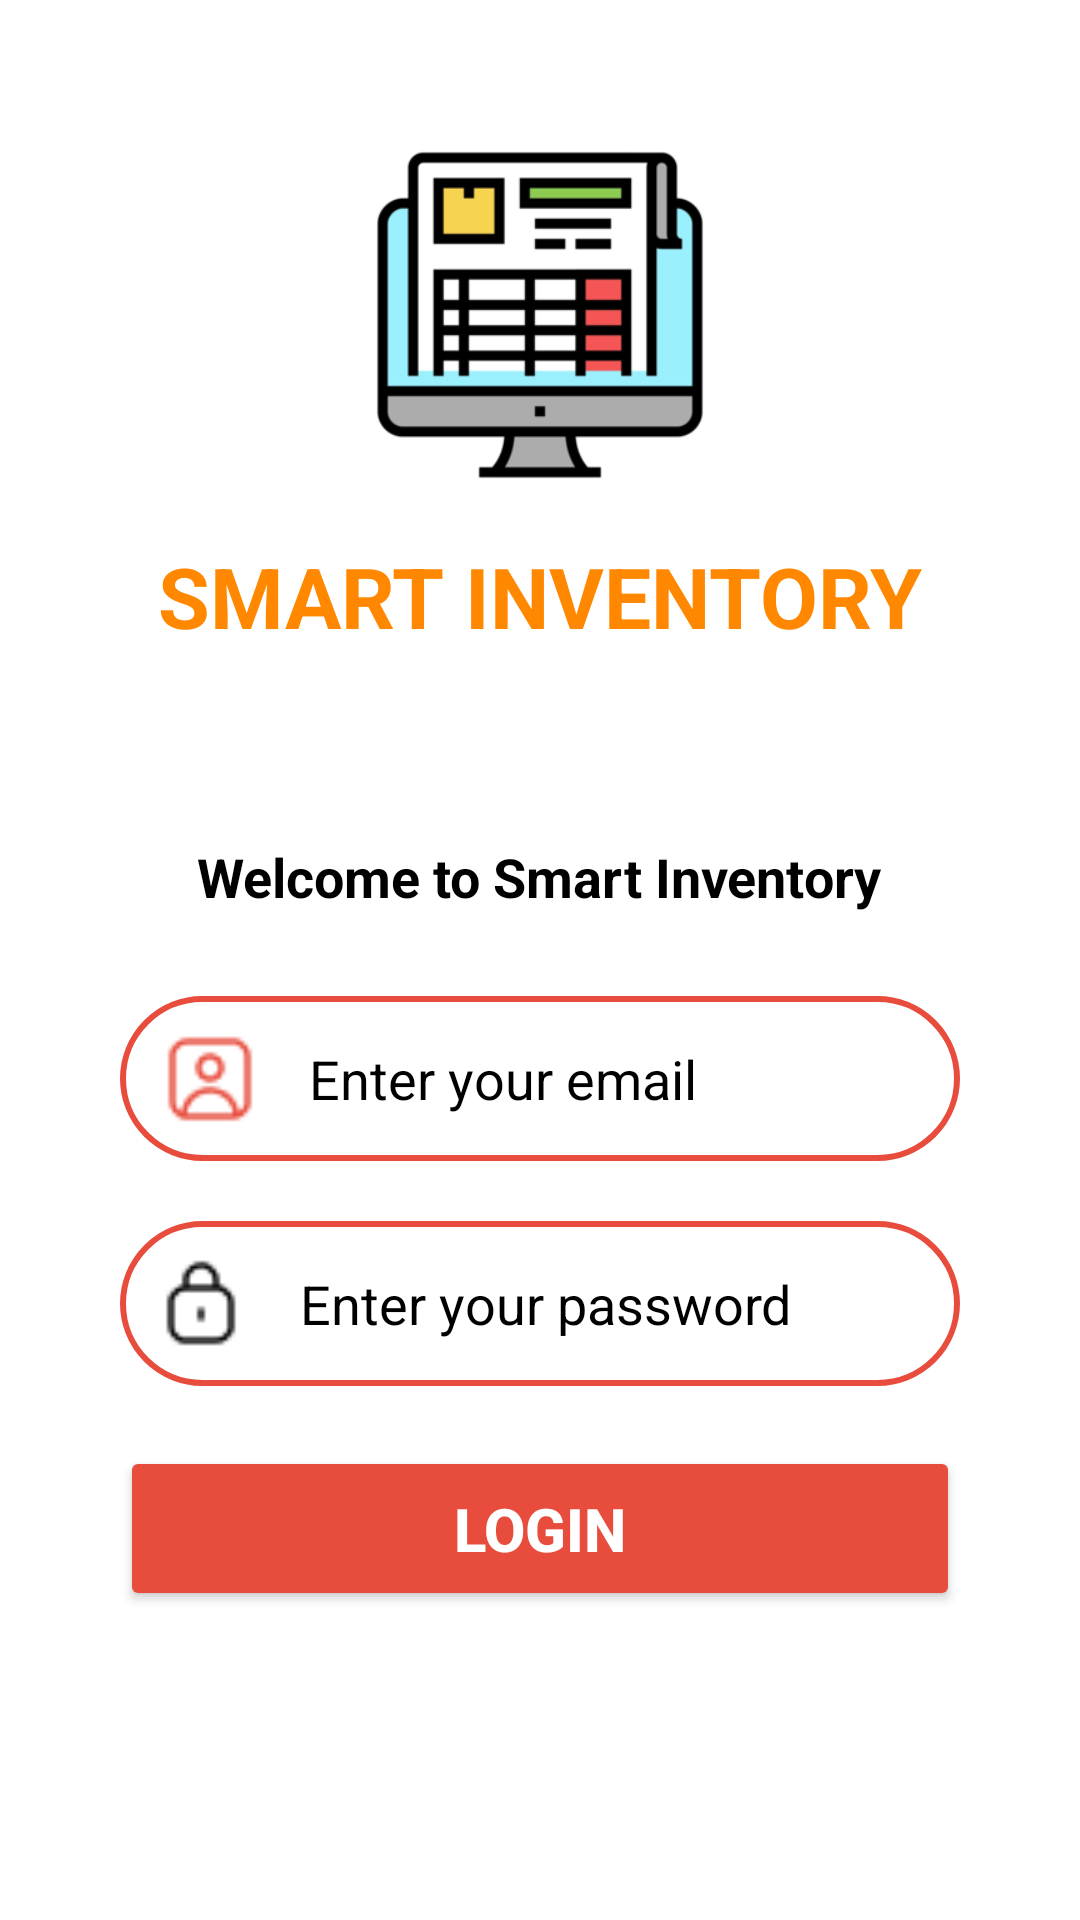

Point at icon controls on the screen. Image size 1080×1920, points as (x,y).
lock: (201,1303)
